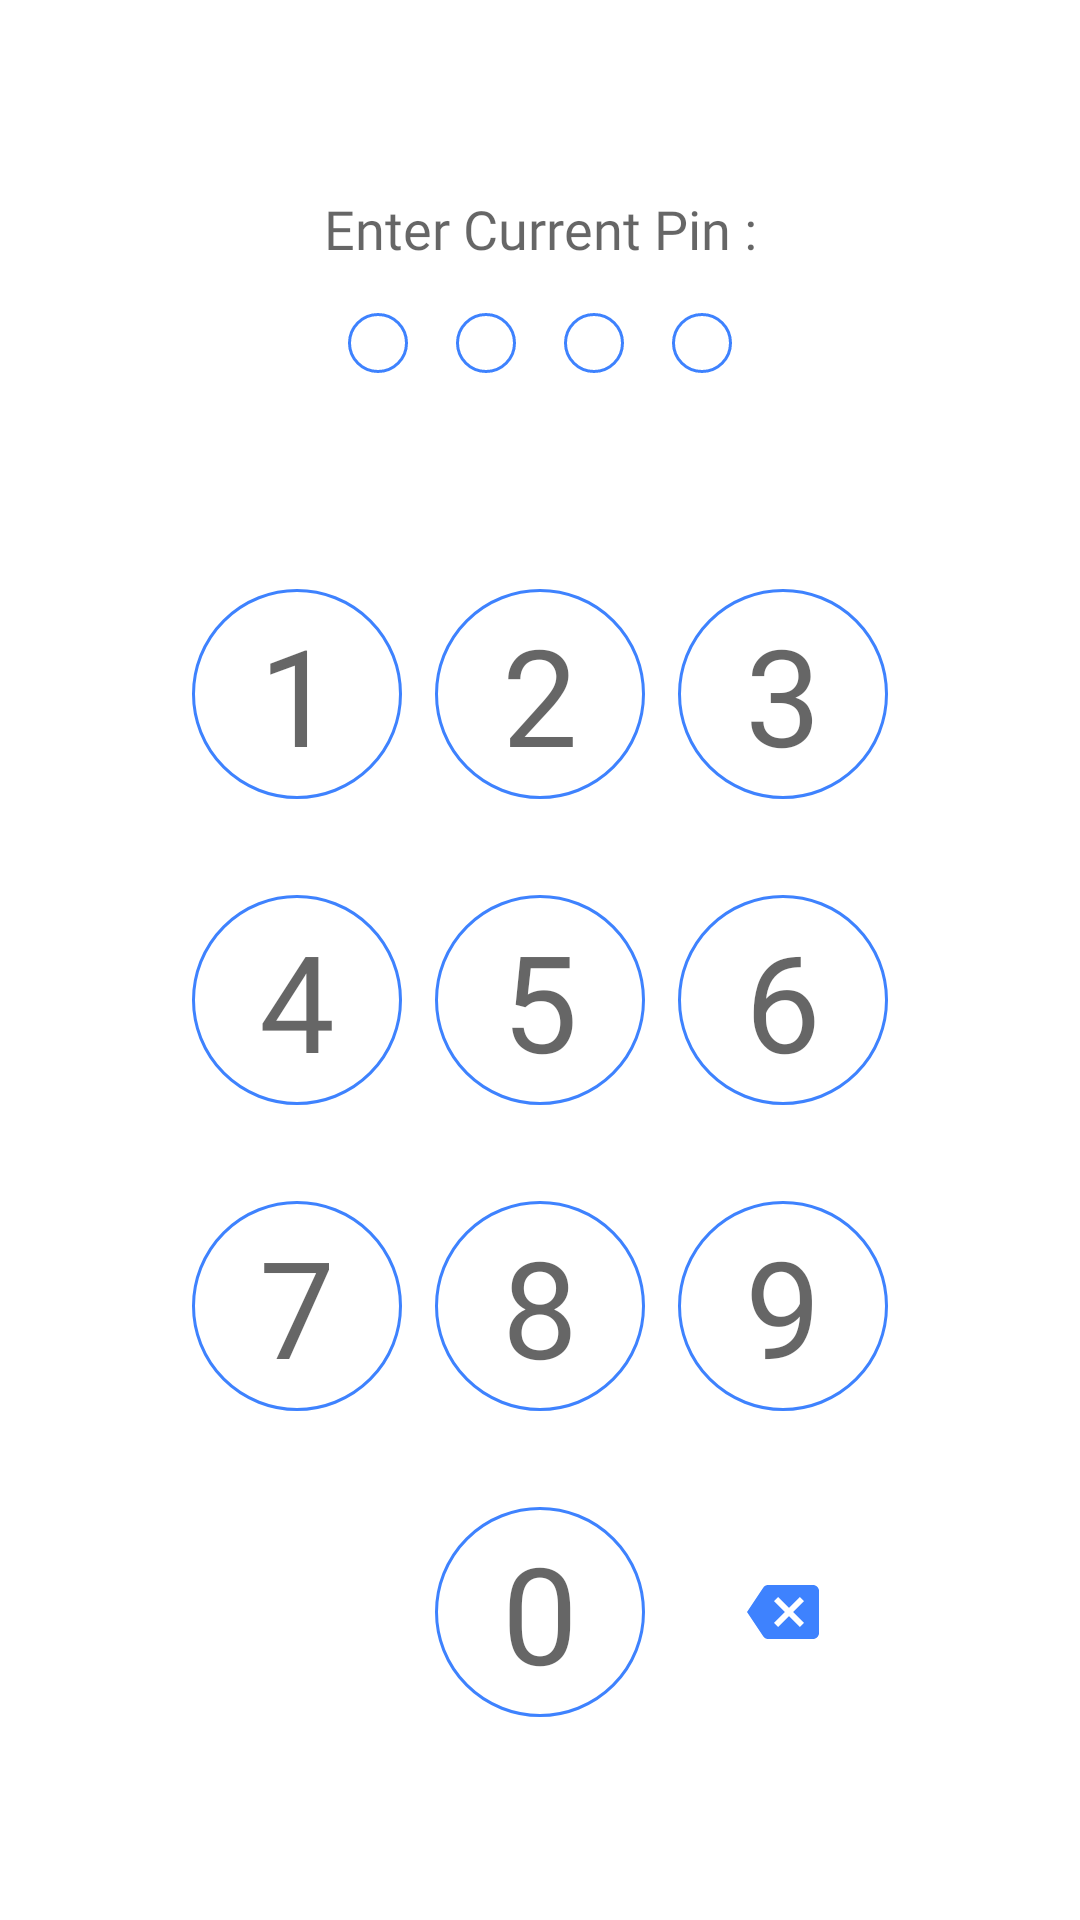

Where to tap for icons on this 1080px×1920px app screen, as [x,y]:
backspace: [783,1612]
